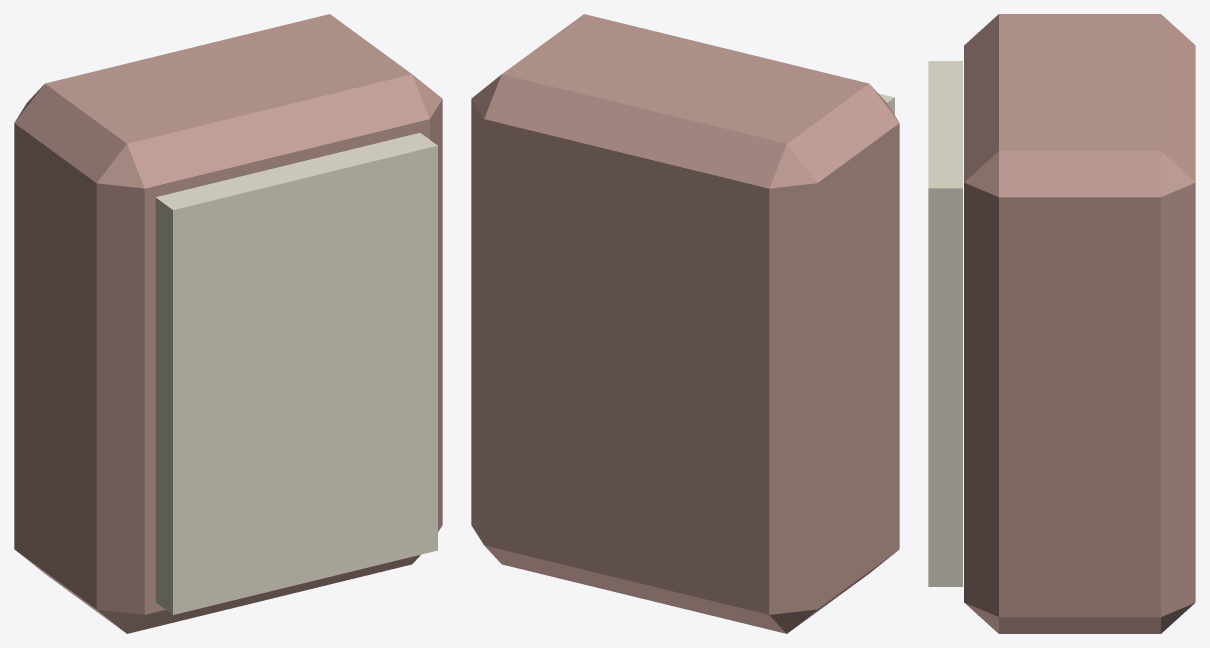
The model's file is SM_NPC_Prop_02_Ledger.glb.
3 views of the same model, side by side, from view 1: azimuth 30°, elevation 25°; view 2: azimuth 150°, elevation 25°; view 3: azimuth 270°, elevation 25° (orthographic).
Parts seen in each view (by area): view 1: SM_NPC_Prop_02_Ledger; view 2: SM_NPC_Prop_02_Ledger; view 3: SM_NPC_Prop_02_Ledger.
Part boxes in pixels (left/top/right/bottom): SM_NPC_Prop_02_Ledger: left=14, top=14, right=442, bottom=633; SM_NPC_Prop_02_Ledger: left=471, top=14, right=899, bottom=633; SM_NPC_Prop_02_Ledger: left=928, top=14, right=1195, bottom=633.
Bounding box in the file's own units: 0.17 × 0.23 × 0.1155.
